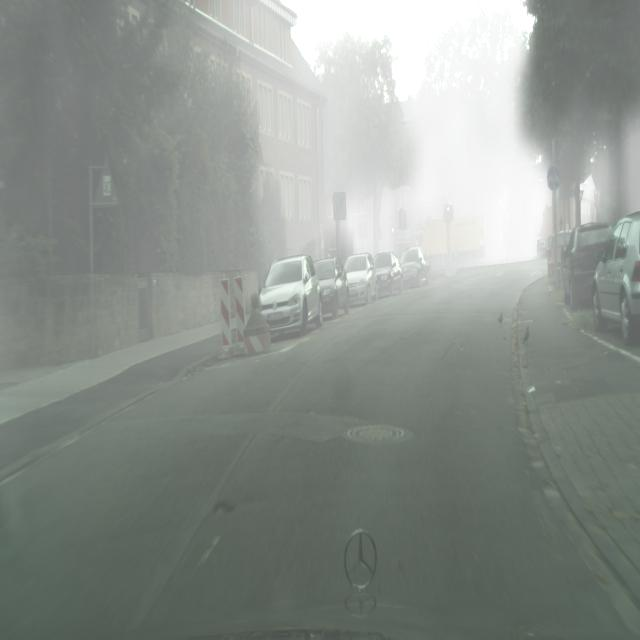train: (419, 214, 486, 267)
truck: (592, 214, 640, 343), (259, 254, 323, 339), (562, 222, 612, 311), (314, 256, 350, 319), (343, 252, 378, 306), (373, 251, 403, 298), (547, 229, 572, 284), (400, 246, 430, 288), (537, 238, 547, 256)
